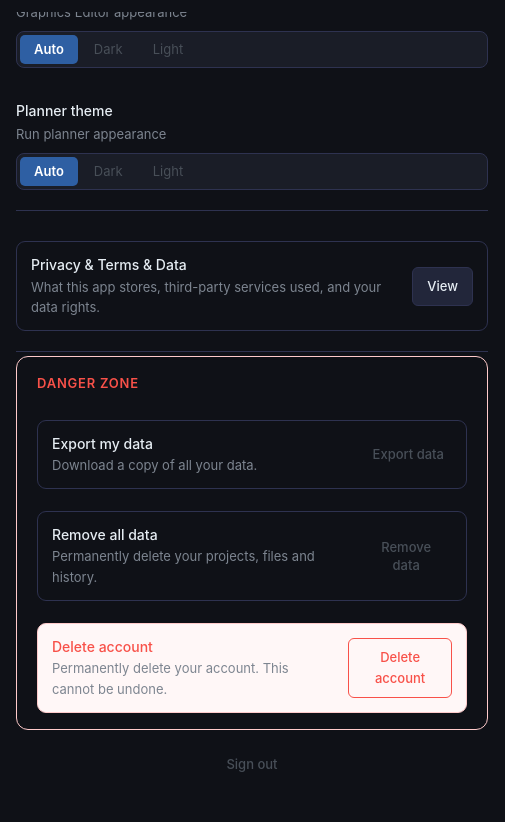
Test: AccountPage — danger zone › shows a soft failure message when deleteAccount is not implemented on the backend
This screenshot has width=505, height=822.
(page scrolled)
Click the button "Delete account": (400, 668) [348,638,452,698]
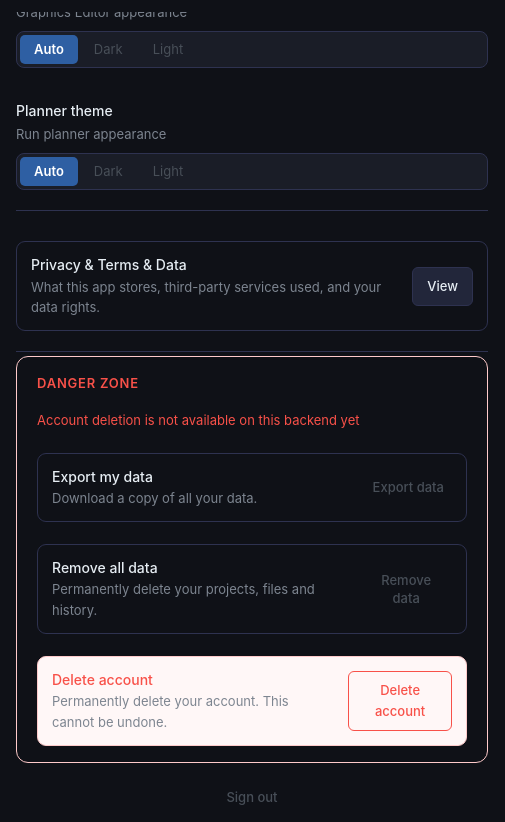
Now the text "Account deletion is not available on this backend yet" is shown, box [37,412,360,428]
